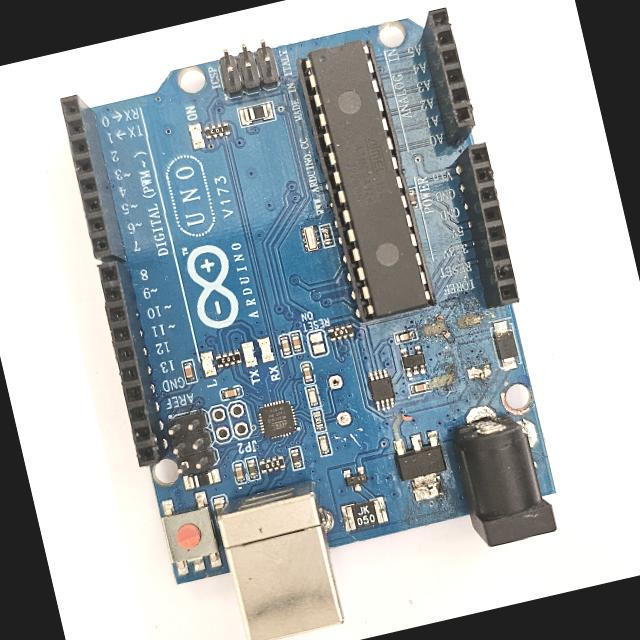missing_capacitors: (417, 300, 501, 403)
missing_crystal_os: (317, 359, 365, 451)
